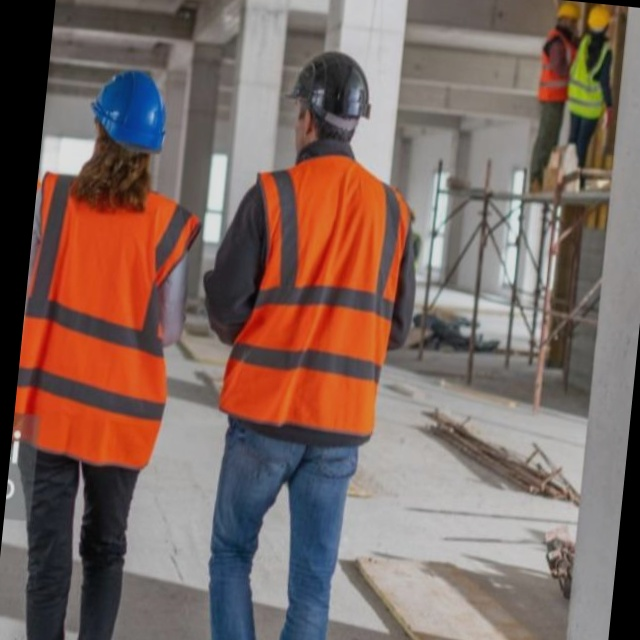Con_Casco: (81, 62, 171, 174)
Con_Chaleco: (11, 164, 206, 461), (221, 147, 412, 429)
